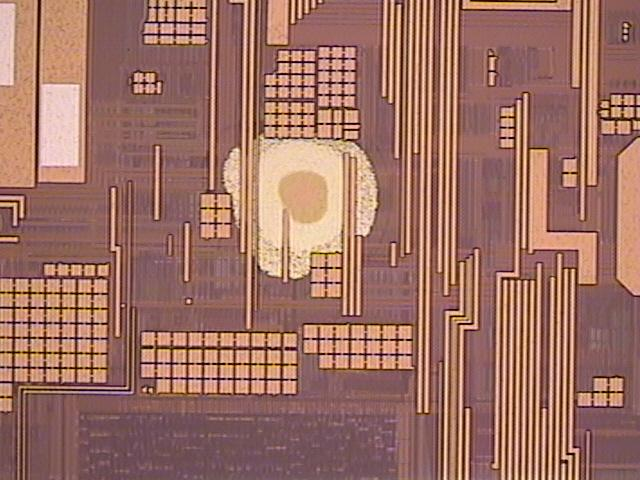BLOCK ETCH: (212, 114, 384, 286)
